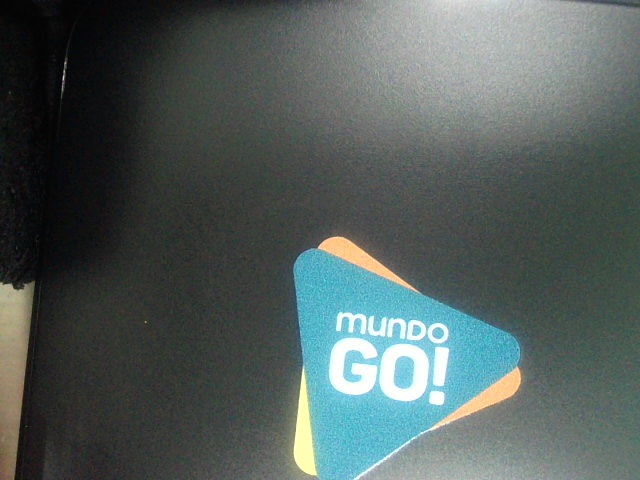AP_IPGMundoGO: (251, 226, 528, 478)
